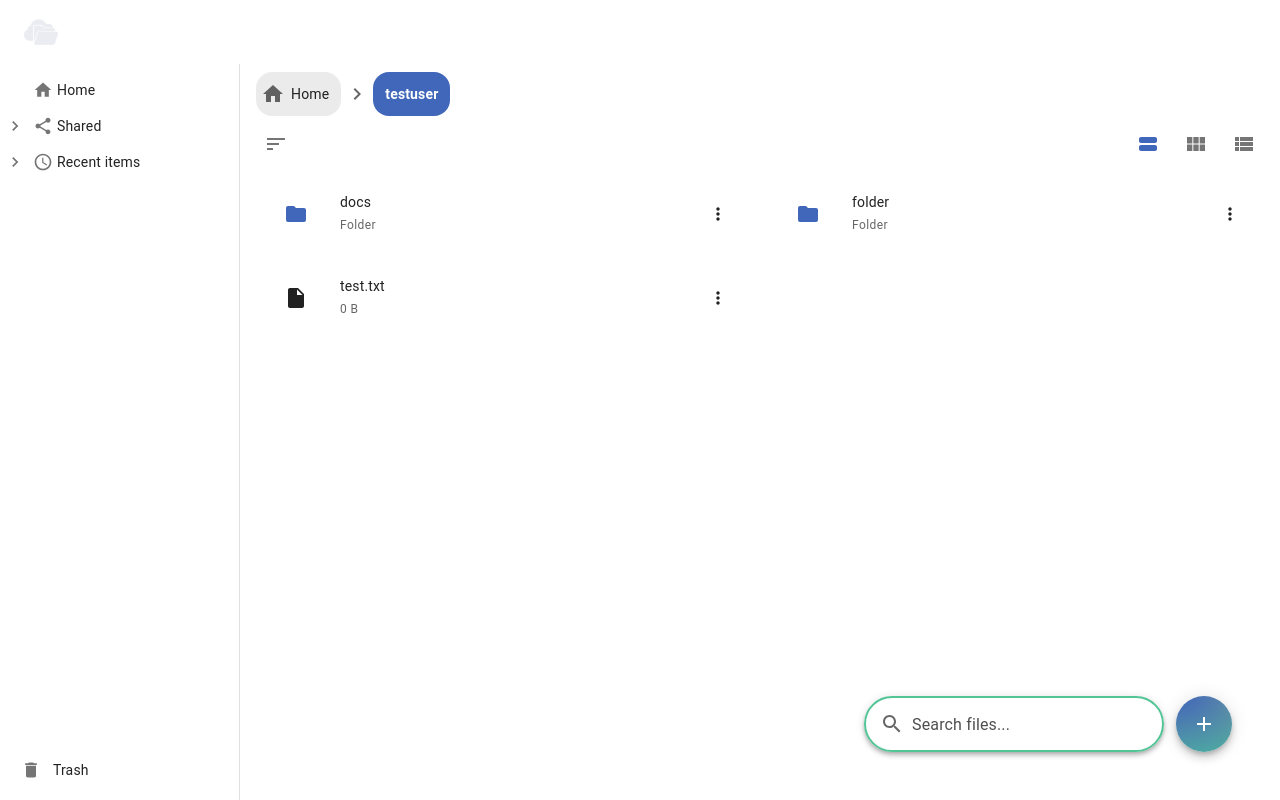
Test: FileManager › path navigation: clicking folder updates list
Double-click the element showing "folder Folder" at (871, 202), box 768,180 -> 1264,248
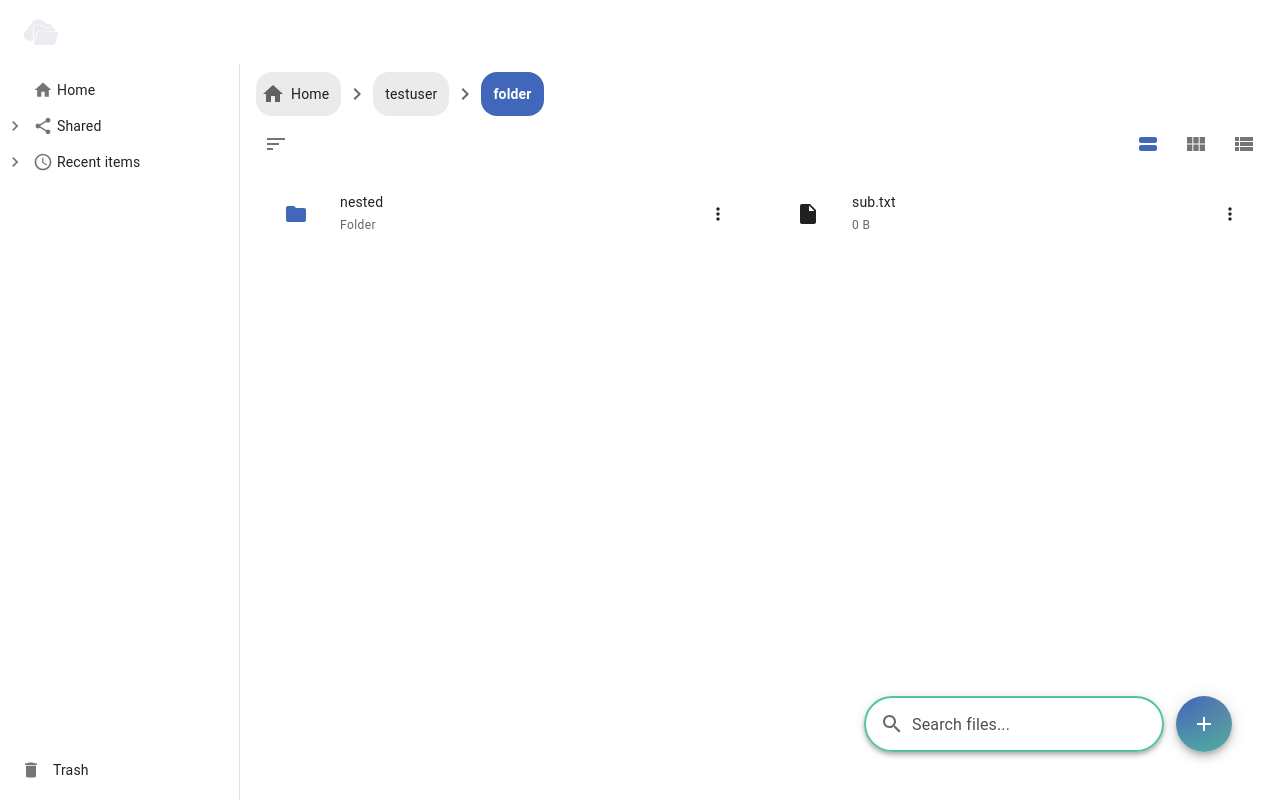
Check: the text "sub.txt" is shown, box 852,194 -> 896,210
